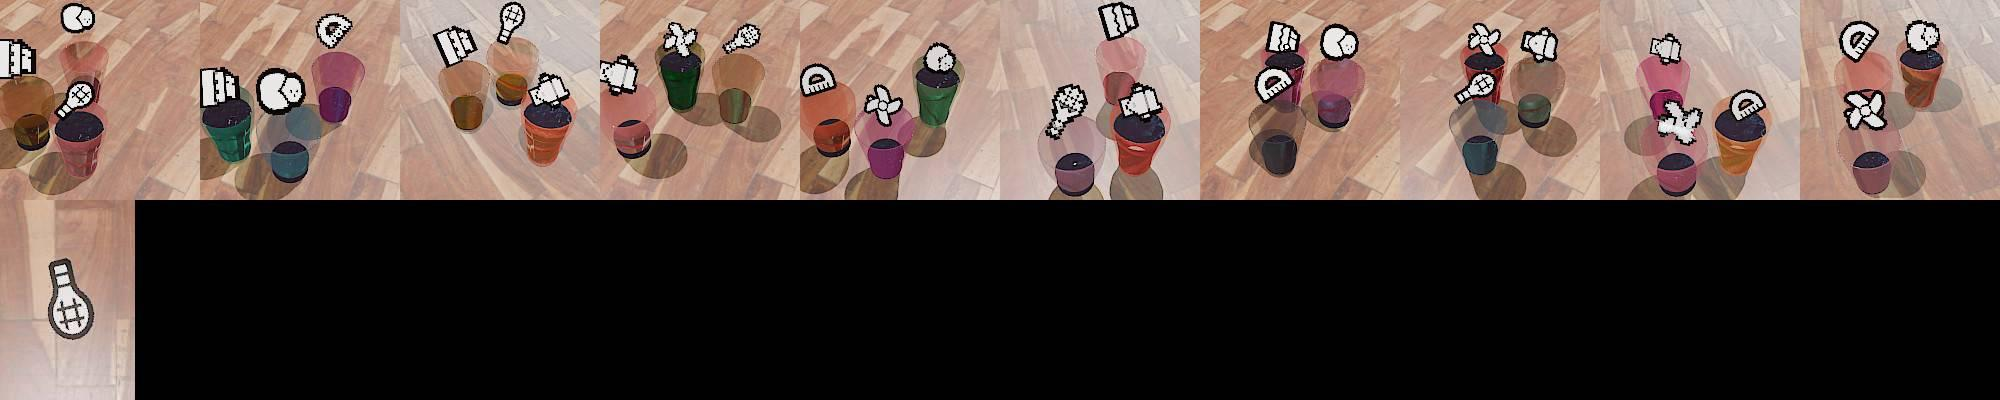icon: (45, 255, 98, 341), (1043, 83, 1088, 141), (255, 66, 306, 116), (1656, 98, 1704, 149), (431, 24, 480, 69), (200, 65, 242, 110), (862, 83, 906, 125), (1839, 20, 1879, 65), (1119, 83, 1165, 121), (1843, 89, 1885, 130), (1097, 1, 1139, 42), (599, 52, 640, 94), (527, 71, 571, 108), (56, 79, 96, 118), (0, 38, 37, 80), (1254, 66, 1293, 104), (1319, 23, 1358, 61), (1454, 69, 1497, 103), (315, 13, 353, 51), (1520, 25, 1560, 62), (1904, 19, 1943, 56), (1727, 89, 1767, 125), (495, 1, 527, 45), (1466, 22, 1505, 56), (1265, 19, 1301, 56), (662, 22, 699, 57), (798, 62, 837, 97), (722, 22, 761, 55), (921, 42, 957, 76), (60, 3, 96, 33), (1649, 32, 1682, 64)
